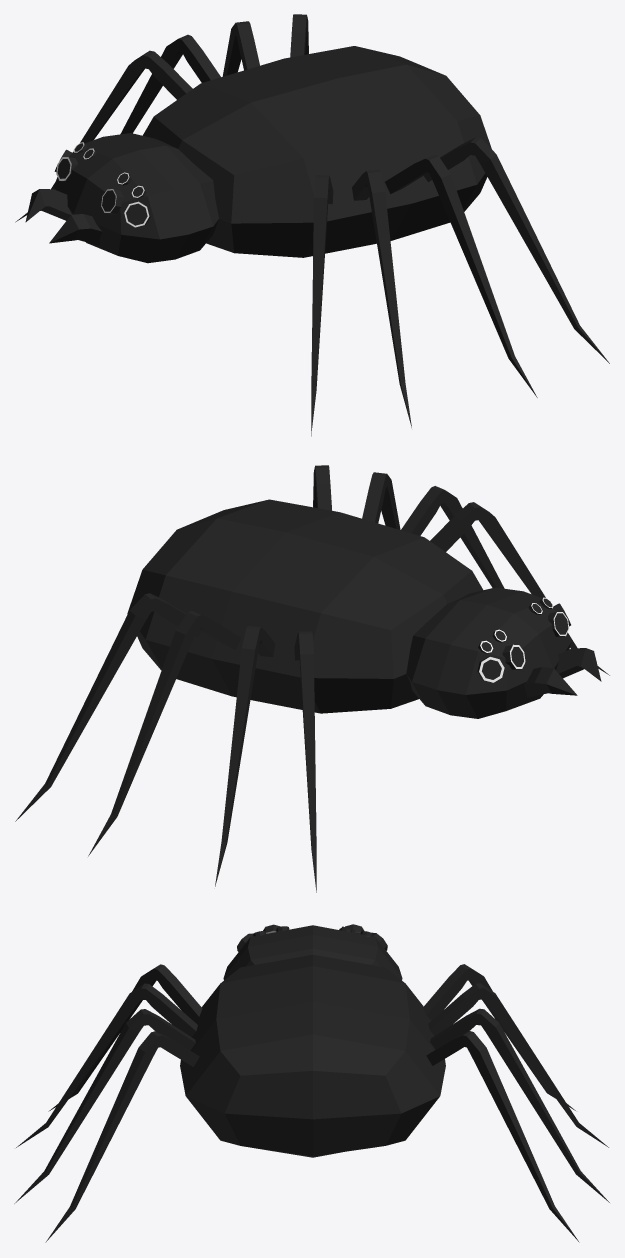
The model's file is pawuk.fbx.
3 renders of one model, top to bottom at view 1: azimuth 30°, elevation 25°; view 2: azimuth 150°, elevation 25°; view 3: azimuth 270°, elevation 25°, orthographic. The views are drawn at different scales.
Parts seen in each view (by area): view 1: Cube, Cube.009, Cube.002, Cube.001, Cube.003, Cube.004, Cube.008, Cube.007, Cube.006, Cube.010, Cube.011, Cube.005; view 2: Cube, Cube.009, Cube.006, Cube.005, Cube.007, Cube.008, Cube.004, Cube.003, Cube.002, Cube.011, Cube.010, Cube.001; view 3: Cube, Cube.009, Cube.001, Cube.002, Cube.005, Cube.006, Cube.003, Cube.007, Cube.004, Cube.008.
Part boxes in pixels (x1,y1,x2,y2): Cube: (143, 46, 491, 257); Cube.009: (53, 133, 218, 263); Cube.002: (385, 154, 537, 397); Cube.001: (424, 137, 609, 363); Cube.003: (352, 169, 411, 427); Cube.004: (311, 175, 333, 436); Cube.008: (15, 50, 192, 222); Cube.007: (120, 34, 220, 134); Cube.006: (222, 21, 259, 76); Cube.010: (49, 214, 102, 245); Cube.011: (25, 189, 71, 222); Cube.005: (290, 14, 308, 57); Cube: (127, 499, 483, 713); Cube.009: (406, 587, 571, 718); Cube.006: (88, 611, 241, 856); Cube.005: (15, 593, 201, 821); Cube.007: (215, 626, 275, 886); Cube.008: (294, 631, 316, 892); Cube.004: (430, 502, 609, 675); Cube.003: (401, 486, 504, 588); Cube.002: (362, 472, 400, 529); Cube.011: (524, 667, 577, 697); Cube.010: (556, 648, 601, 681); Cube.001: (313, 465, 331, 510); Cube: (180, 954, 445, 1157); Cube.009: (223, 925, 402, 980); Cube.001: (45, 1031, 199, 1242); Cube.002: (14, 1009, 195, 1203); Cube.005: (426, 1031, 579, 1242); Cube.006: (430, 1008, 609, 1202); Cube.003: (16, 983, 197, 1147); Cube.007: (428, 983, 608, 1147); Cube.004: (48, 964, 202, 1111); Cube.008: (423, 964, 575, 1110).
Size of the model in its own units: 1782 by 839 by 2406.
